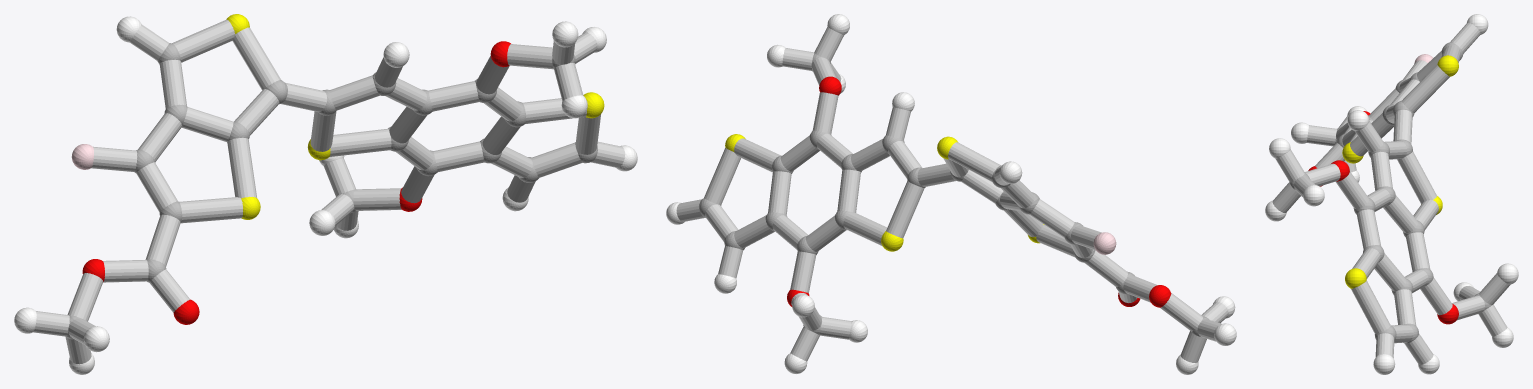
File: Dimethoxy_Benzodithiophene_Phi_25_Theta_70_Methylcarbonyl_3_Fluoro_Thienothiophene.glb
3 renders of one model, left to right at view 1: azimuth 30°, elevation 25°; view 2: azimuth 150°, elevation 25°; view 3: azimuth 270°, elevation 25°, orthographic. The views are drawn at different scales.
Visible parts, largest first — view 1: grp15205, grp8689, grp1, grp13395, grp7241; view 2: grp15205, grp8689, grp1, grp13395, grp7241; view 3: grp15205, grp8689, grp1, grp7241, grp13395.
Part boxes in pixels (left/top/right/bottom): grp15205: left=33, top=19, right=625, bottom=364; grp8689: left=14, top=16, right=637, bottom=374; grp1: left=66, top=43, right=597, bottom=339; grp13395: left=82, top=41, right=510, bottom=324; grp7241: left=226, top=14, right=604, bottom=219; grp15205: left=676, top=27, right=1228, bottom=362; grp8689: left=666, top=14, right=1236, bottom=374; grp1: left=699, top=53, right=1209, bottom=336; grp13395: left=787, top=76, right=1171, bottom=307; grp7241: left=725, top=134, right=1044, bottom=251; grp15205: left=1272, top=22, right=1510, bottom=364; grp8689: left=1265, top=14, right=1518, bottom=374; grp1: left=1289, top=42, right=1491, bottom=343; grp7241: left=1342, top=55, right=1458, bottom=288; grp13395: left=1308, top=111, right=1458, bottom=324.
Size of the model in its own units: 16.83 by 7.39 by 7.
